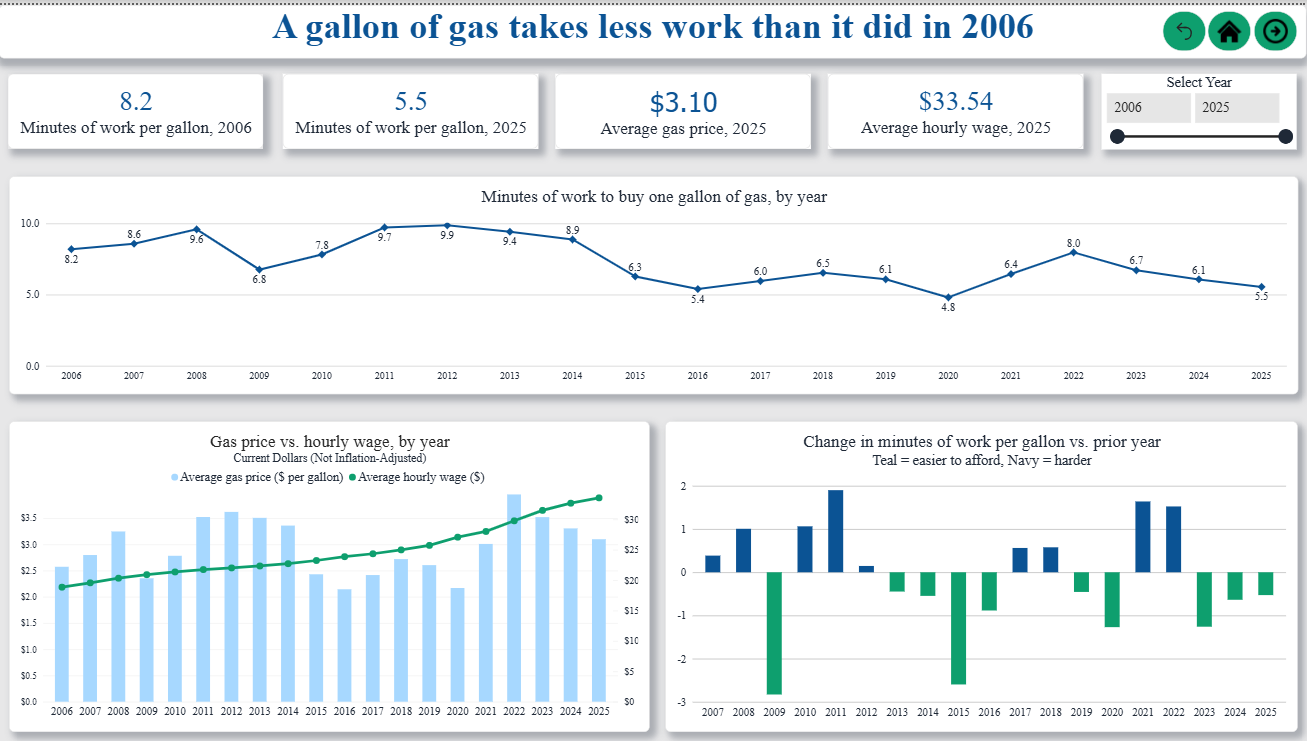

The page's visual inventory and layout, read from the dashboard file:
{"tool":"powerbi","page":{"name":"Executive Overview","canvas":[1920,1080],"ordinal":1},"visuals":[{"type":"textbox","box":[0,0,1920,78],"z":0},{"type":"cardVisual","fields":{"Data":["Measures (2).Min/Gal - All"]},"box":[13.3,100,375,110],"z":1000},{"type":"cardVisual","fields":{"Data":["Measures (2).Avg Gas Price"]},"box":[815.6,100,375,110],"z":2000},{"type":"cardVisual","fields":{"Data":["Measures (2).Min/Gal - All"]},"box":[415.6,100,375,110],"z":3000},{"type":"slicer","title":"Select Year","fields":{"Values":["Dim Year.Year"]},"box":[1617.8,100,286.7,111.1],"z":4000},{"type":"cardVisual","fields":{"Data":["Measures (2).Hr Wage - All "]},"box":[1215.6,100,375,110],"z":5000},{"type":"lineChart","title":"Minutes of work to buy one gallon of gas, by year","fields":{"Category":["Dim Year.Year"],"Y":["Measures (2).Min/Gal - All"]},"box":[14,252,1892,320],"z":6000},{"type":"lineClusteredColumnComboChart","title":"Gas price vs. hourly wage, by year","fields":{"Category":["Dim Year.Year"],"Y":["Measures (2).Avg Gas Price"],"Y2":["Measures (2).Hr Wage - All "]},"box":[14,610,940,456],"z":7000},{"type":"clusteredColumnChart","title":"Change in minutes of work per gallon vs. prior year","fields":{"Category":["Dim Year.Year"],"Y":["Measures (2).YoY Min - All"]},"box":[978,610,928,456],"z":8000},{"type":"actionButton","box":[1841.3,8.7,63,58.7],"z":9000},{"type":"actionButton","box":[1774,8.7,63,58.7],"z":10000},{"type":"actionButton","box":[1707,8.7,63,58.7],"z":11000}]}

Visuals, with their boxes in screenshot pixels (x1, y1, x2, y2), scaled from the page's 1920x1080 canvas onto the 1307x741 screenshot:
textbox: (0,0,1306,54)
cardVisual - Measures (2).Min/Gal - All: (9,69,264,144)
cardVisual - Measures (2).Avg Gas Price: (555,69,810,144)
cardVisual - Measures (2).Min/Gal - All: (283,69,538,144)
"Select Year" slicer: (1101,69,1296,145)
cardVisual - Measures (2).Hr Wage - All : (827,69,1083,144)
"Minutes of work to buy one gallon of gas, by year" lineChart: (10,173,1297,392)
"Gas price vs. hourly wage, by year" lineClusteredColumnComboChart: (10,419,649,731)
"Change in minutes of work per gallon vs. prior year" clusteredColumnChart: (666,419,1297,731)
actionButton: (1253,6,1296,46)
actionButton: (1208,6,1250,46)
actionButton: (1162,6,1205,46)
